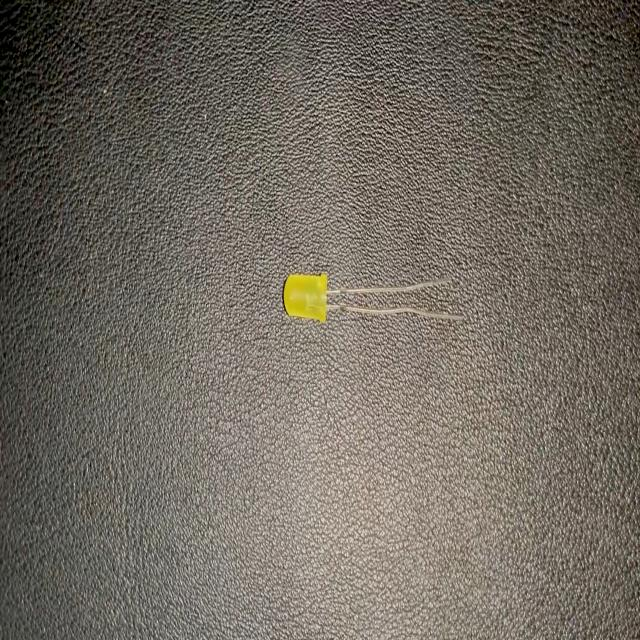LED: (283, 272, 466, 324)
